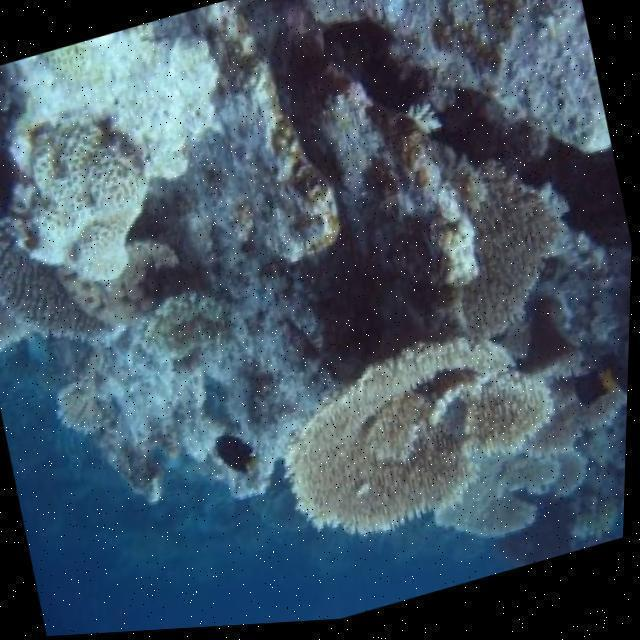Bleached Coral: (9, 12, 264, 497), (322, 0, 596, 271)
Healthy Coral: (289, 327, 601, 534)
